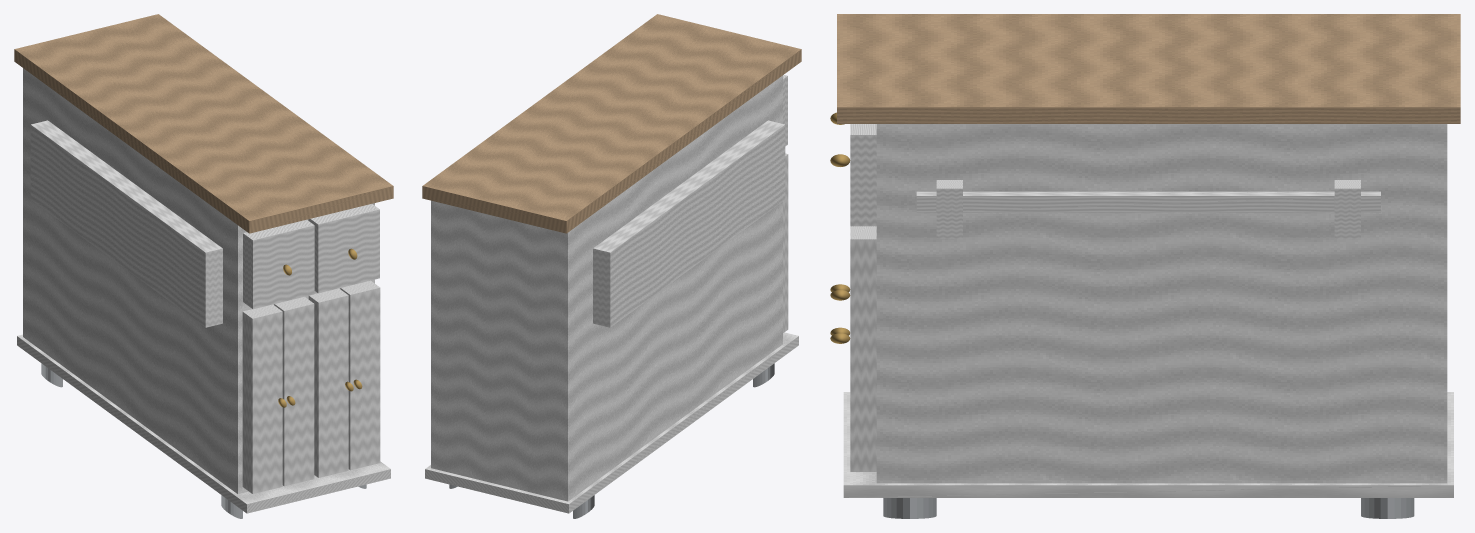
The picture shows the model from 3 angles, left to right: view 1: azimuth 30°, elevation 25°; view 2: azimuth 150°, elevation 25°; view 3: azimuth 270°, elevation 25°; orthographic projection. The views are drawn at different scales.
Visible parts, largest first — view 1: 1 cabinet_body, 2 wood_countertop, 20 spice_rack, 12 door_left_outer, 14 door_right_inner, 13 door_left_inner, 15 door_right_outer, 3 base_plinth, 8 drawer_left, 9 drawer_right; view 2: 1 cabinet_body, 2 wood_countertop, 20 spice_rack, 3 base_plinth, 12 door_left_outer; view 3: 1 cabinet_body, 2 wood_countertop, 3 base_plinth, 21 towel_rack_bar, 15 door_right_outer, 9 drawer_right, 22 towel_rack_bracket_front, 23 towel_rack_bracket_back, 5 caster_front_right, 7 caster_back_right.
Boxes of the visible parts, x1=… form: 1 cabinet_body: x1=23, y1=68, x2=374, y2=493; 2 wood_countertop: x1=14, y1=14, x2=393, y2=233; 20 spice_rack: x1=30, y1=120, x2=222, y2=327; 12 door_left_outer: x1=242, y1=304, x2=282, y2=493; 14 door_right_inner: x1=308, y1=288, x2=348, y2=477; 13 door_left_inner: x1=274, y1=296, x2=314, y2=486; 15 door_right_outer: x1=340, y1=280, x2=380, y2=470; 3 base_plinth: x1=17, y1=334, x2=390, y2=513; 8 drawer_left: x1=243, y1=219, x2=314, y2=309; 9 drawer_right: x1=308, y1=204, x2=379, y2=293; 1 cabinet_body: x1=431, y1=75, x2=782, y2=501; 2 wood_countertop: x1=422, y1=14, x2=801, y2=233; 20 spice_rack: x1=593, y1=120, x2=785, y2=327; 3 base_plinth: x1=425, y1=332, x2=798, y2=513; 12 door_left_outer: x1=783, y1=153, x2=788, y2=332; 1 cabinet_body: x1=876, y1=124, x2=1447, y2=483; 2 wood_countertop: x1=837, y1=14, x2=1460, y2=123; 3 base_plinth: x1=843, y1=392, x2=1453, y2=497; 21 towel_rack_bar: x1=916, y1=191, x2=1380, y2=212; 15 door_right_outer: x1=850, y1=226, x2=876, y2=471; 9 drawer_right: x1=850, y1=124, x2=876, y2=226; 22 towel_rack_bracket_front: x1=936, y1=180, x2=962, y2=238; 23 towel_rack_bracket_back: x1=1334, y1=180, x2=1360, y2=238; 5 caster_front_right: x1=883, y1=498, x2=936, y2=518; 7 caster_back_right: x1=1361, y1=498, x2=1414, y2=518.
Size of the model in its own units: 0.4496 by 0.8001 by 1.1.
Materials: 4 (2 with a texture image).
